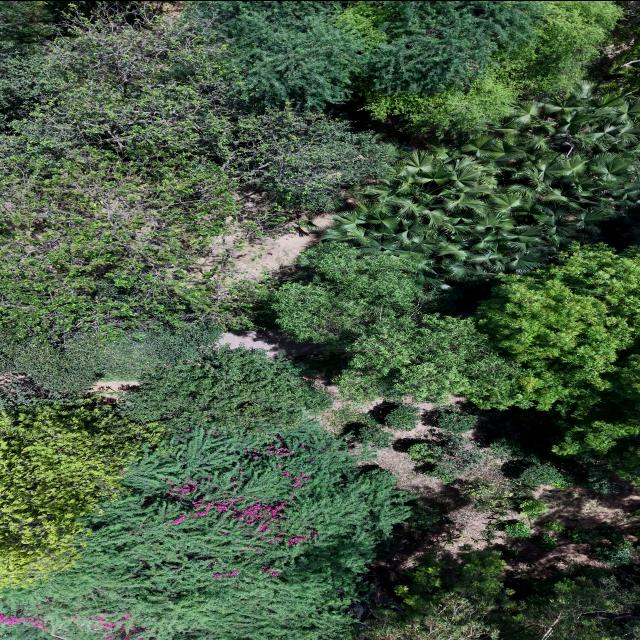VEGETATION_TREE: (0, 1, 639, 639), (0, 1, 392, 392), (1, 4, 388, 337), (268, 85, 635, 406), (3, 349, 408, 639), (322, 84, 639, 290), (216, 1, 619, 136), (267, 243, 516, 403), (477, 245, 639, 482), (362, 1, 619, 137), (217, 1, 542, 104), (0, 401, 162, 589), (477, 246, 639, 409), (357, 551, 636, 639), (218, 104, 391, 211), (122, 348, 328, 437), (360, 1, 542, 93), (0, 323, 220, 399), (218, 1, 373, 105), (335, 314, 515, 402), (268, 243, 417, 346), (360, 551, 511, 639), (496, 1, 620, 96), (488, 571, 636, 639), (361, 75, 516, 137), (395, 551, 511, 615), (358, 597, 497, 639), (597, 1, 639, 94), (406, 435, 484, 482), (345, 404, 419, 448), (565, 524, 635, 565), (1, 1, 58, 40), (339, 1, 387, 43), (456, 478, 511, 511), (512, 462, 569, 488), (563, 523, 625, 544), (590, 540, 635, 565), (349, 422, 392, 448), (581, 471, 626, 495), (434, 409, 477, 433), (383, 404, 419, 431), (458, 479, 497, 500), (406, 505, 439, 529), (488, 437, 518, 457), (515, 500, 547, 518), (564, 529, 598, 544), (500, 521, 529, 538), (534, 533, 556, 549), (539, 520, 563, 532)
